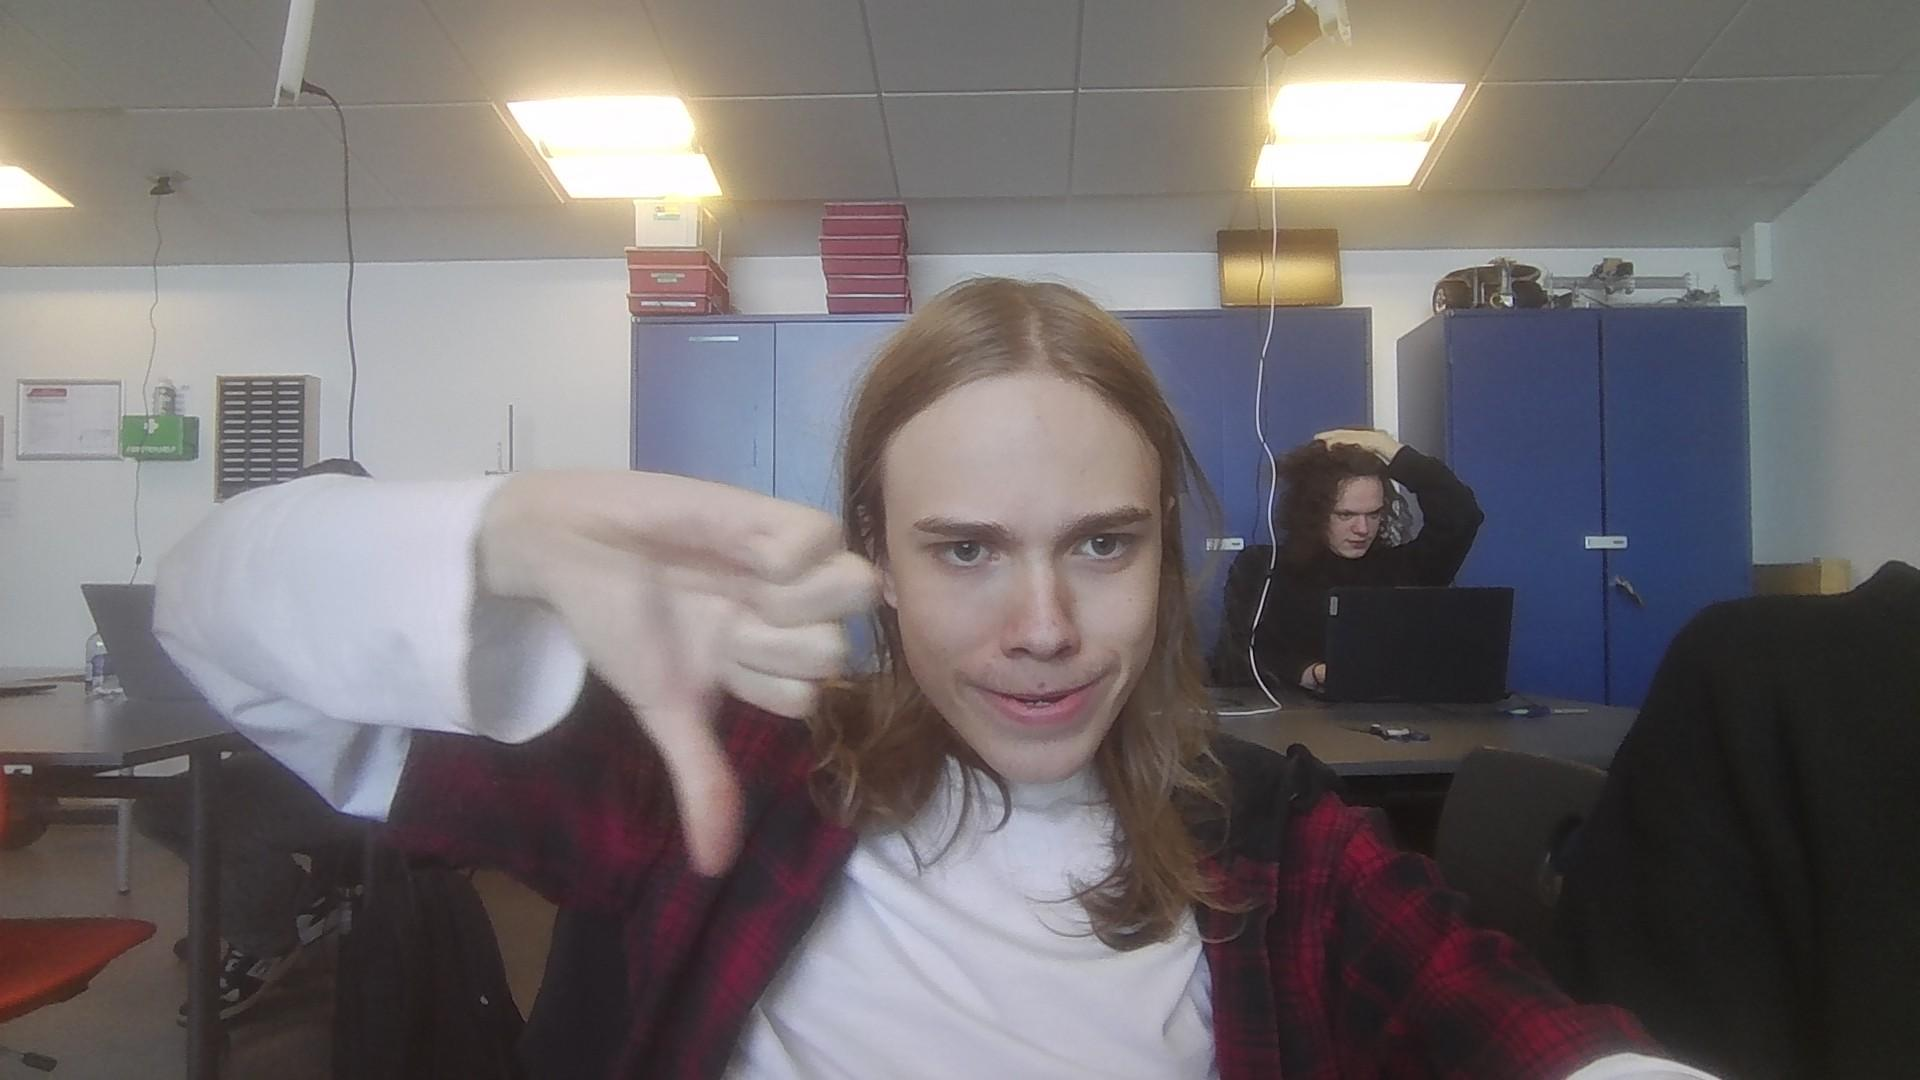thumbs down: (580, 471, 885, 889)
